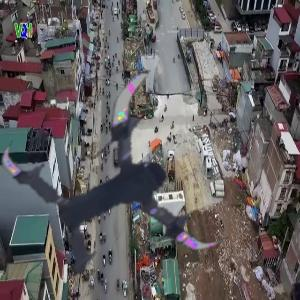drone: (21, 76, 239, 294)
